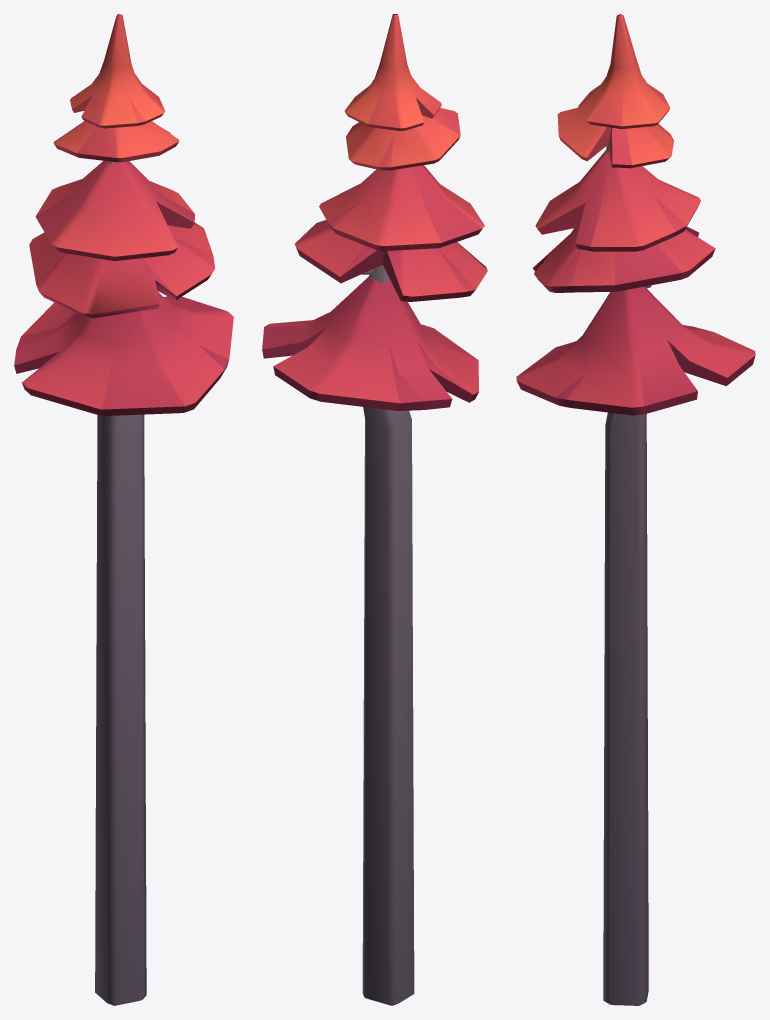
The model's file is pine_tree_pink.glb.
3 renders of one model, left to right at view 1: azimuth 30°, elevation 25°; view 2: azimuth 150°, elevation 25°; view 3: azimuth 270°, elevation 25°, orthographic.
Parts seen in each view (by area): view 1: tree_pine_SC_04_pine_tree_red_mat_0; view 2: tree_pine_SC_04_pine_tree_red_mat_0; view 3: tree_pine_SC_04_pine_tree_red_mat_0.
Part boxes in pixels (<box>): tree_pine_SC_04_pine_tree_red_mat_0: <box>14,14,233,1005</box>; tree_pine_SC_04_pine_tree_red_mat_0: <box>262,14,487,1005</box>; tree_pine_SC_04_pine_tree_red_mat_0: <box>516,14,755,1005</box>.
Size of the model in its own units: 5.28 by 23.86 by 5.26.
Materials: 1 (1 with a texture image).
